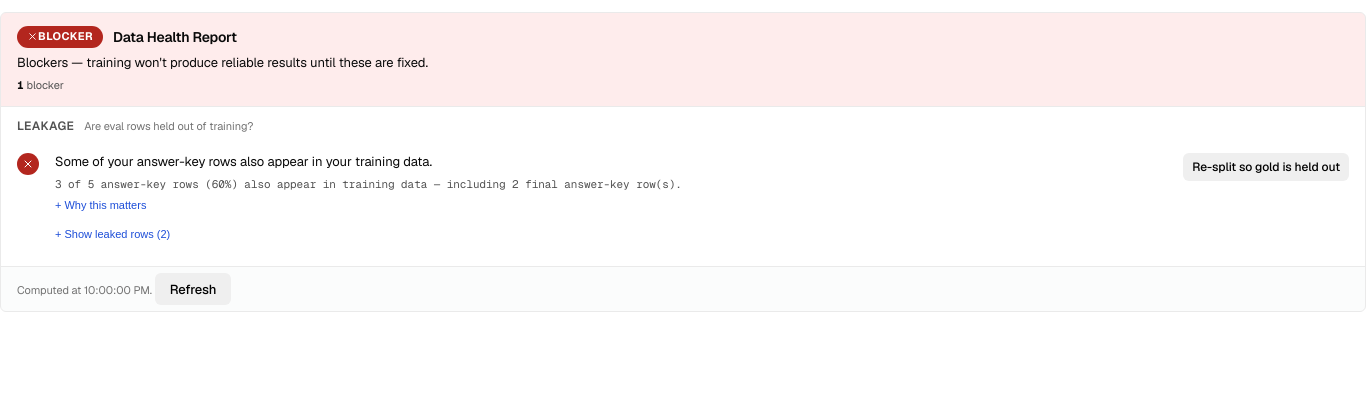
it: DataHealthReportPanel › expands a leaked-row drill-down for leakage signals carrying examples
The width and height of the screenshot is (1366, 414).
Click the button with test id "data-health-examples-toggle-leakage.gold_train_overlap": (113, 234) 55,228 -> 170,240
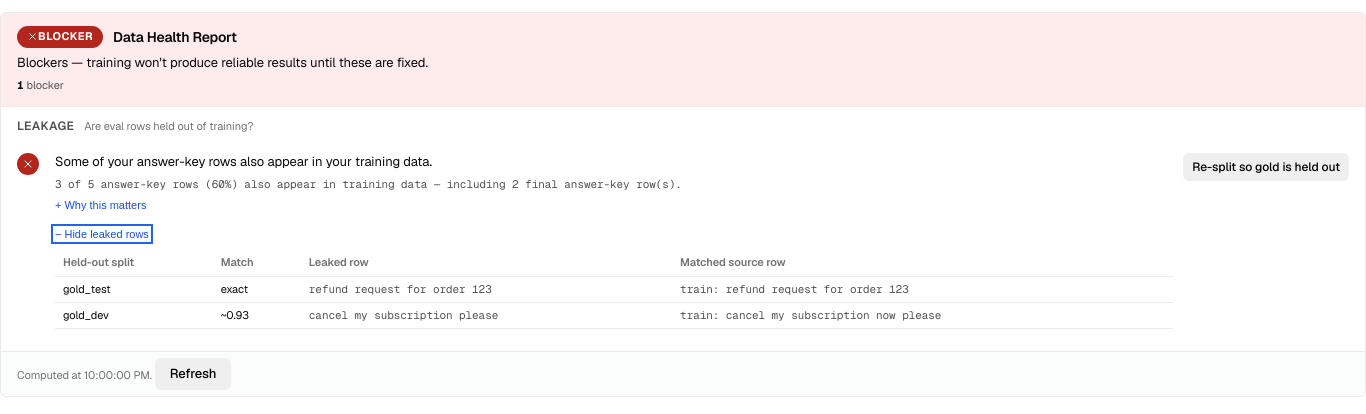
Expected: the table with test id "data-health-examples-leakage.gold_train_overlap" shows "gold_test", 63,282 -> 110,296
Expected: the table with test id "data-health-examples-leakage.gold_train_overlap" shows "exact", 221,282 -> 248,296
Expected: the table with test id "data-health-examples-leakage.gold_train_overlap" shows "refund request for order 123", 309,282 -> 492,296
